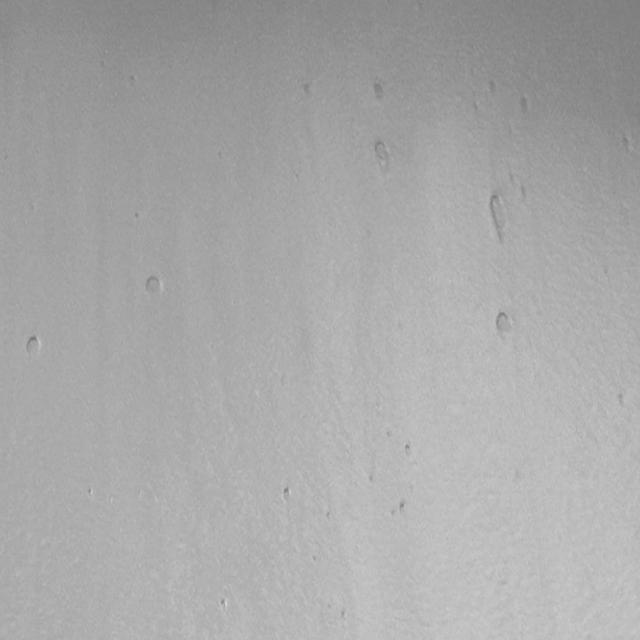pin holes: (481, 190, 514, 251), (489, 308, 516, 342), (370, 138, 394, 173), (23, 334, 44, 362), (370, 75, 390, 104), (143, 274, 166, 299), (517, 95, 535, 119), (278, 484, 296, 506), (402, 440, 418, 460), (300, 81, 316, 101), (614, 391, 630, 411), (520, 182, 531, 206), (323, 506, 335, 526), (218, 595, 232, 611), (338, 608, 351, 624), (398, 501, 410, 517), (367, 469, 378, 486), (131, 211, 143, 225), (85, 486, 96, 500), (311, 551, 319, 566)
